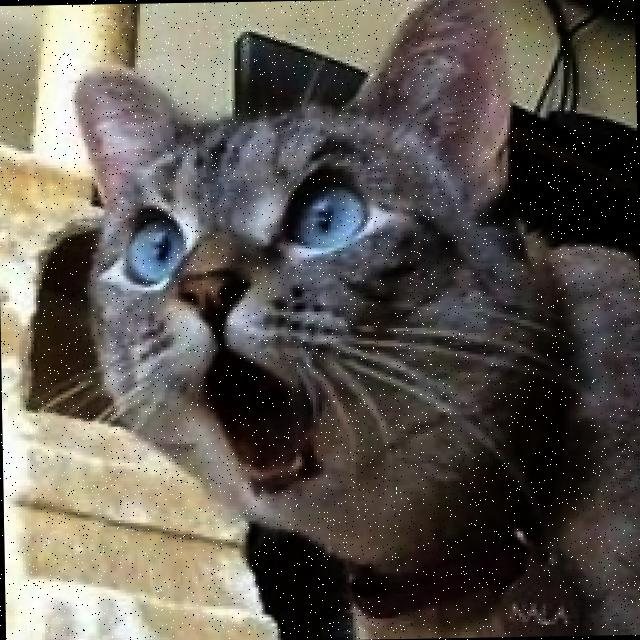Surprised: (70, 164, 437, 538)
